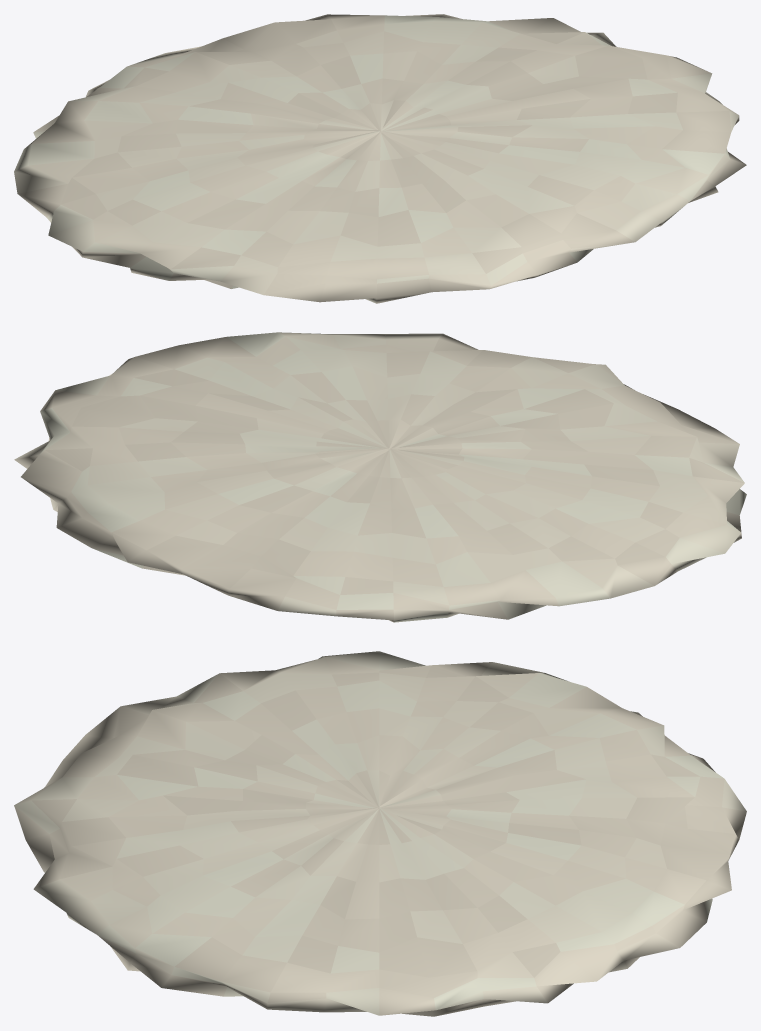
The model's file is Milk.glb.
The picture shows the model from 3 angles, top to bottom: view 1: azimuth 30°, elevation 25°; view 2: azimuth 150°, elevation 25°; view 3: azimuth 270°, elevation 25°; orthographic projection. The views are drawn at different scales.
Parts seen in each view (by area): view 1: Milk; view 2: Milk; view 3: Milk.
Boxes of the visible parts, box(x1,y1,x2,y2) form: Milk: box(14, 14, 746, 303); Milk: box(14, 332, 746, 622); Milk: box(14, 651, 746, 1016).
Size of what is drawn, in the model's own units: 0.0743 by 0.00576 by 0.0631.
